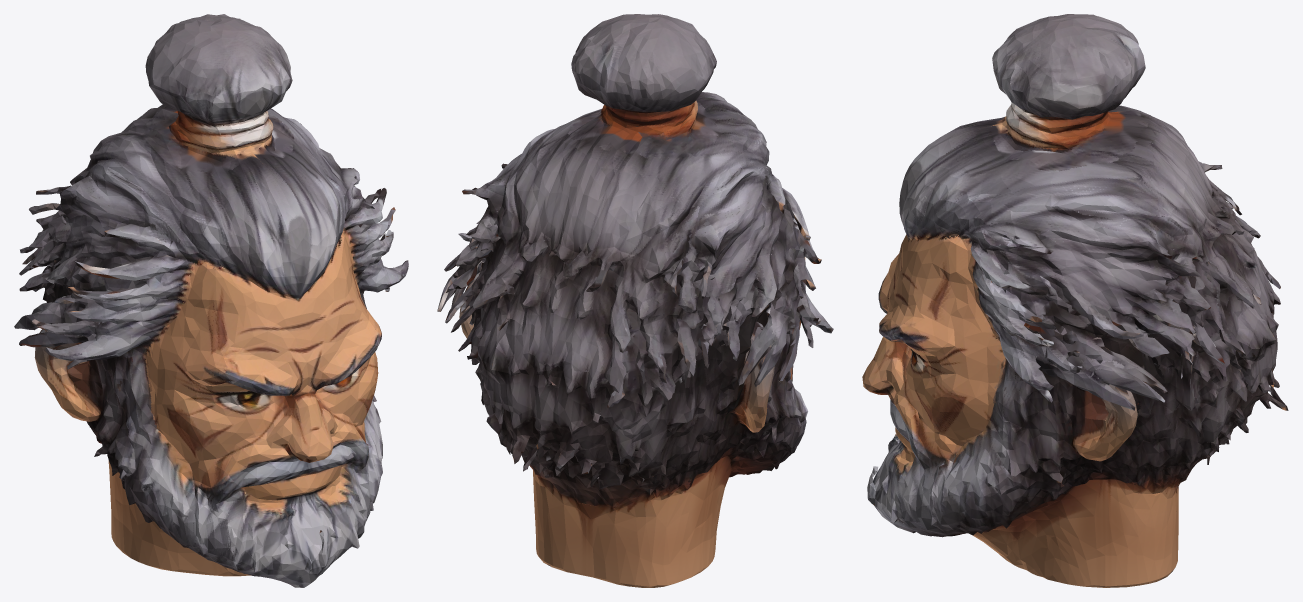
Rendered from side_chuto_repaired_atlas.glb.
3 renders of one model, left to right at view 1: azimuth 30°, elevation 25°; view 2: azimuth 150°, elevation 25°; view 3: azimuth 270°, elevation 25°, orthographic.
Parts seen in each view (by area): view 1: temp_mesh.ply; view 2: temp_mesh.ply; view 3: temp_mesh.ply.
Boxes of the visible parts, <box> form: temp_mesh.ply: <box>14,14,408,587</box>; temp_mesh.ply: <box>437,14,833,587</box>; temp_mesh.ply: <box>862,14,1288,587</box>.
Size of the model in its own units: 0.8957 by 1.23 by 0.8984.
Materials: 1 (1 with a texture image).
